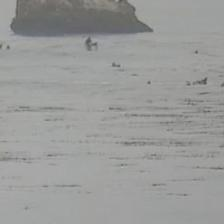surfer: (186, 78, 208, 86), (84, 36, 93, 45), (111, 62, 120, 68), (220, 78, 224, 88), (146, 80, 152, 86), (5, 44, 11, 50), (193, 50, 199, 54), (1, 44, 3, 51)
